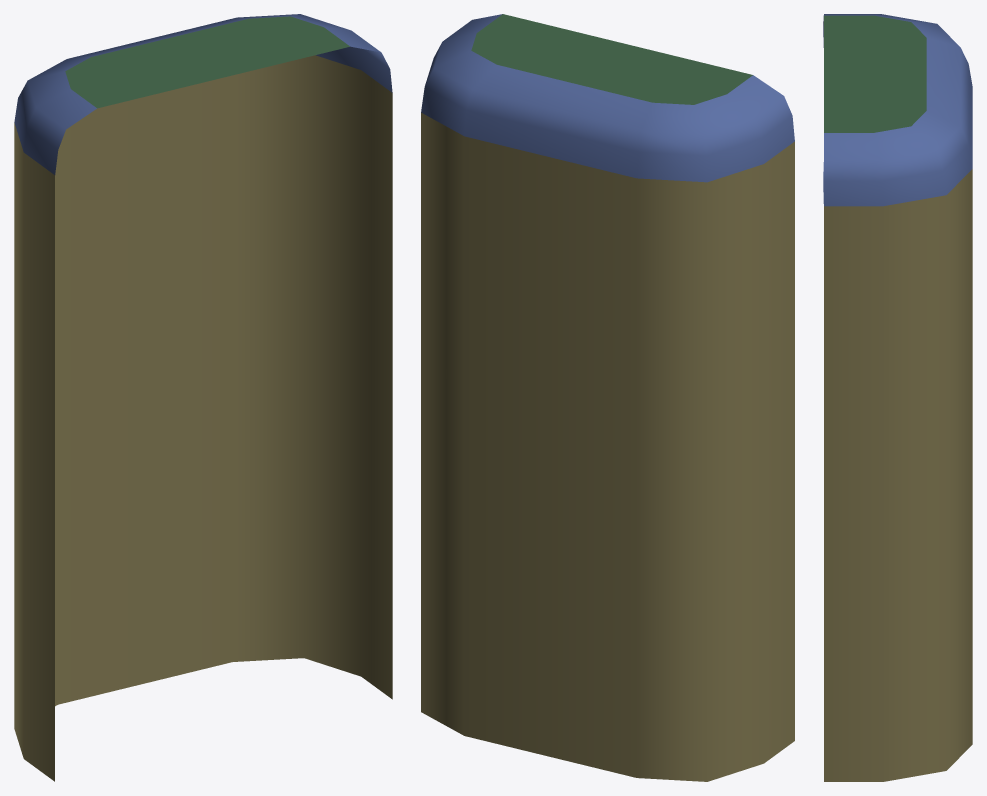
File: Mini_plat_1.fbx
3 renders of one model, left to right at view 1: azimuth 30°, elevation 25°; view 2: azimuth 150°, elevation 25°; view 3: azimuth 270°, elevation 25°, orthographic. The views are drawn at different scales.
Parts seen in each view (by area): view 1: Mini_plat_1, Ground3, Wall3; view 2: Mini_plat_1, Wall3, Ground3; view 3: Mini_plat_1, Wall3, Ground3.
Boxes of the visible parts, x1,y1,x2,y2 form: Mini_plat_1: (14,55,392,781); Ground3: (65,16,349,108); Wall3: (14,14,392,174); Mini_plat_1: (421,112,794,781); Wall3: (421,14,794,182); Ground3: (471,14,752,104); Mini_plat_1: (824,169,972,781); Wall3: (823,14,972,206); Ground3: (824,15,926,132).
Size of the model in its own units: 2609 by 4899 by 1055.
